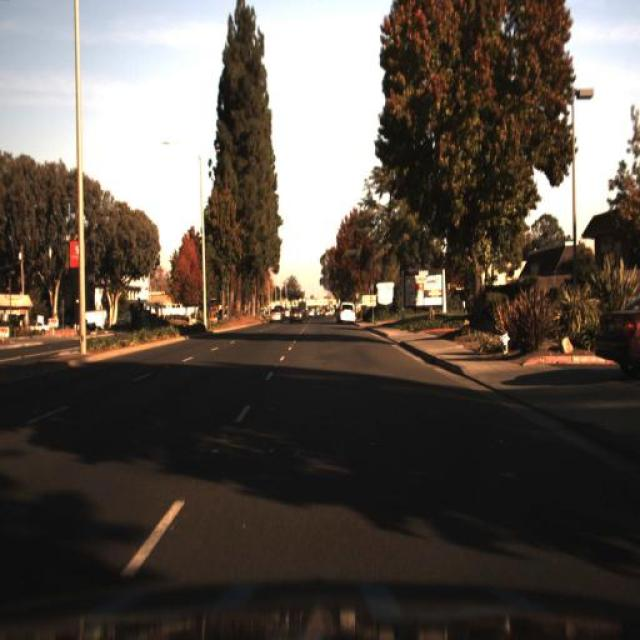car: (598, 294, 640, 384), (332, 288, 361, 332), (266, 302, 286, 327), (288, 300, 304, 328)
